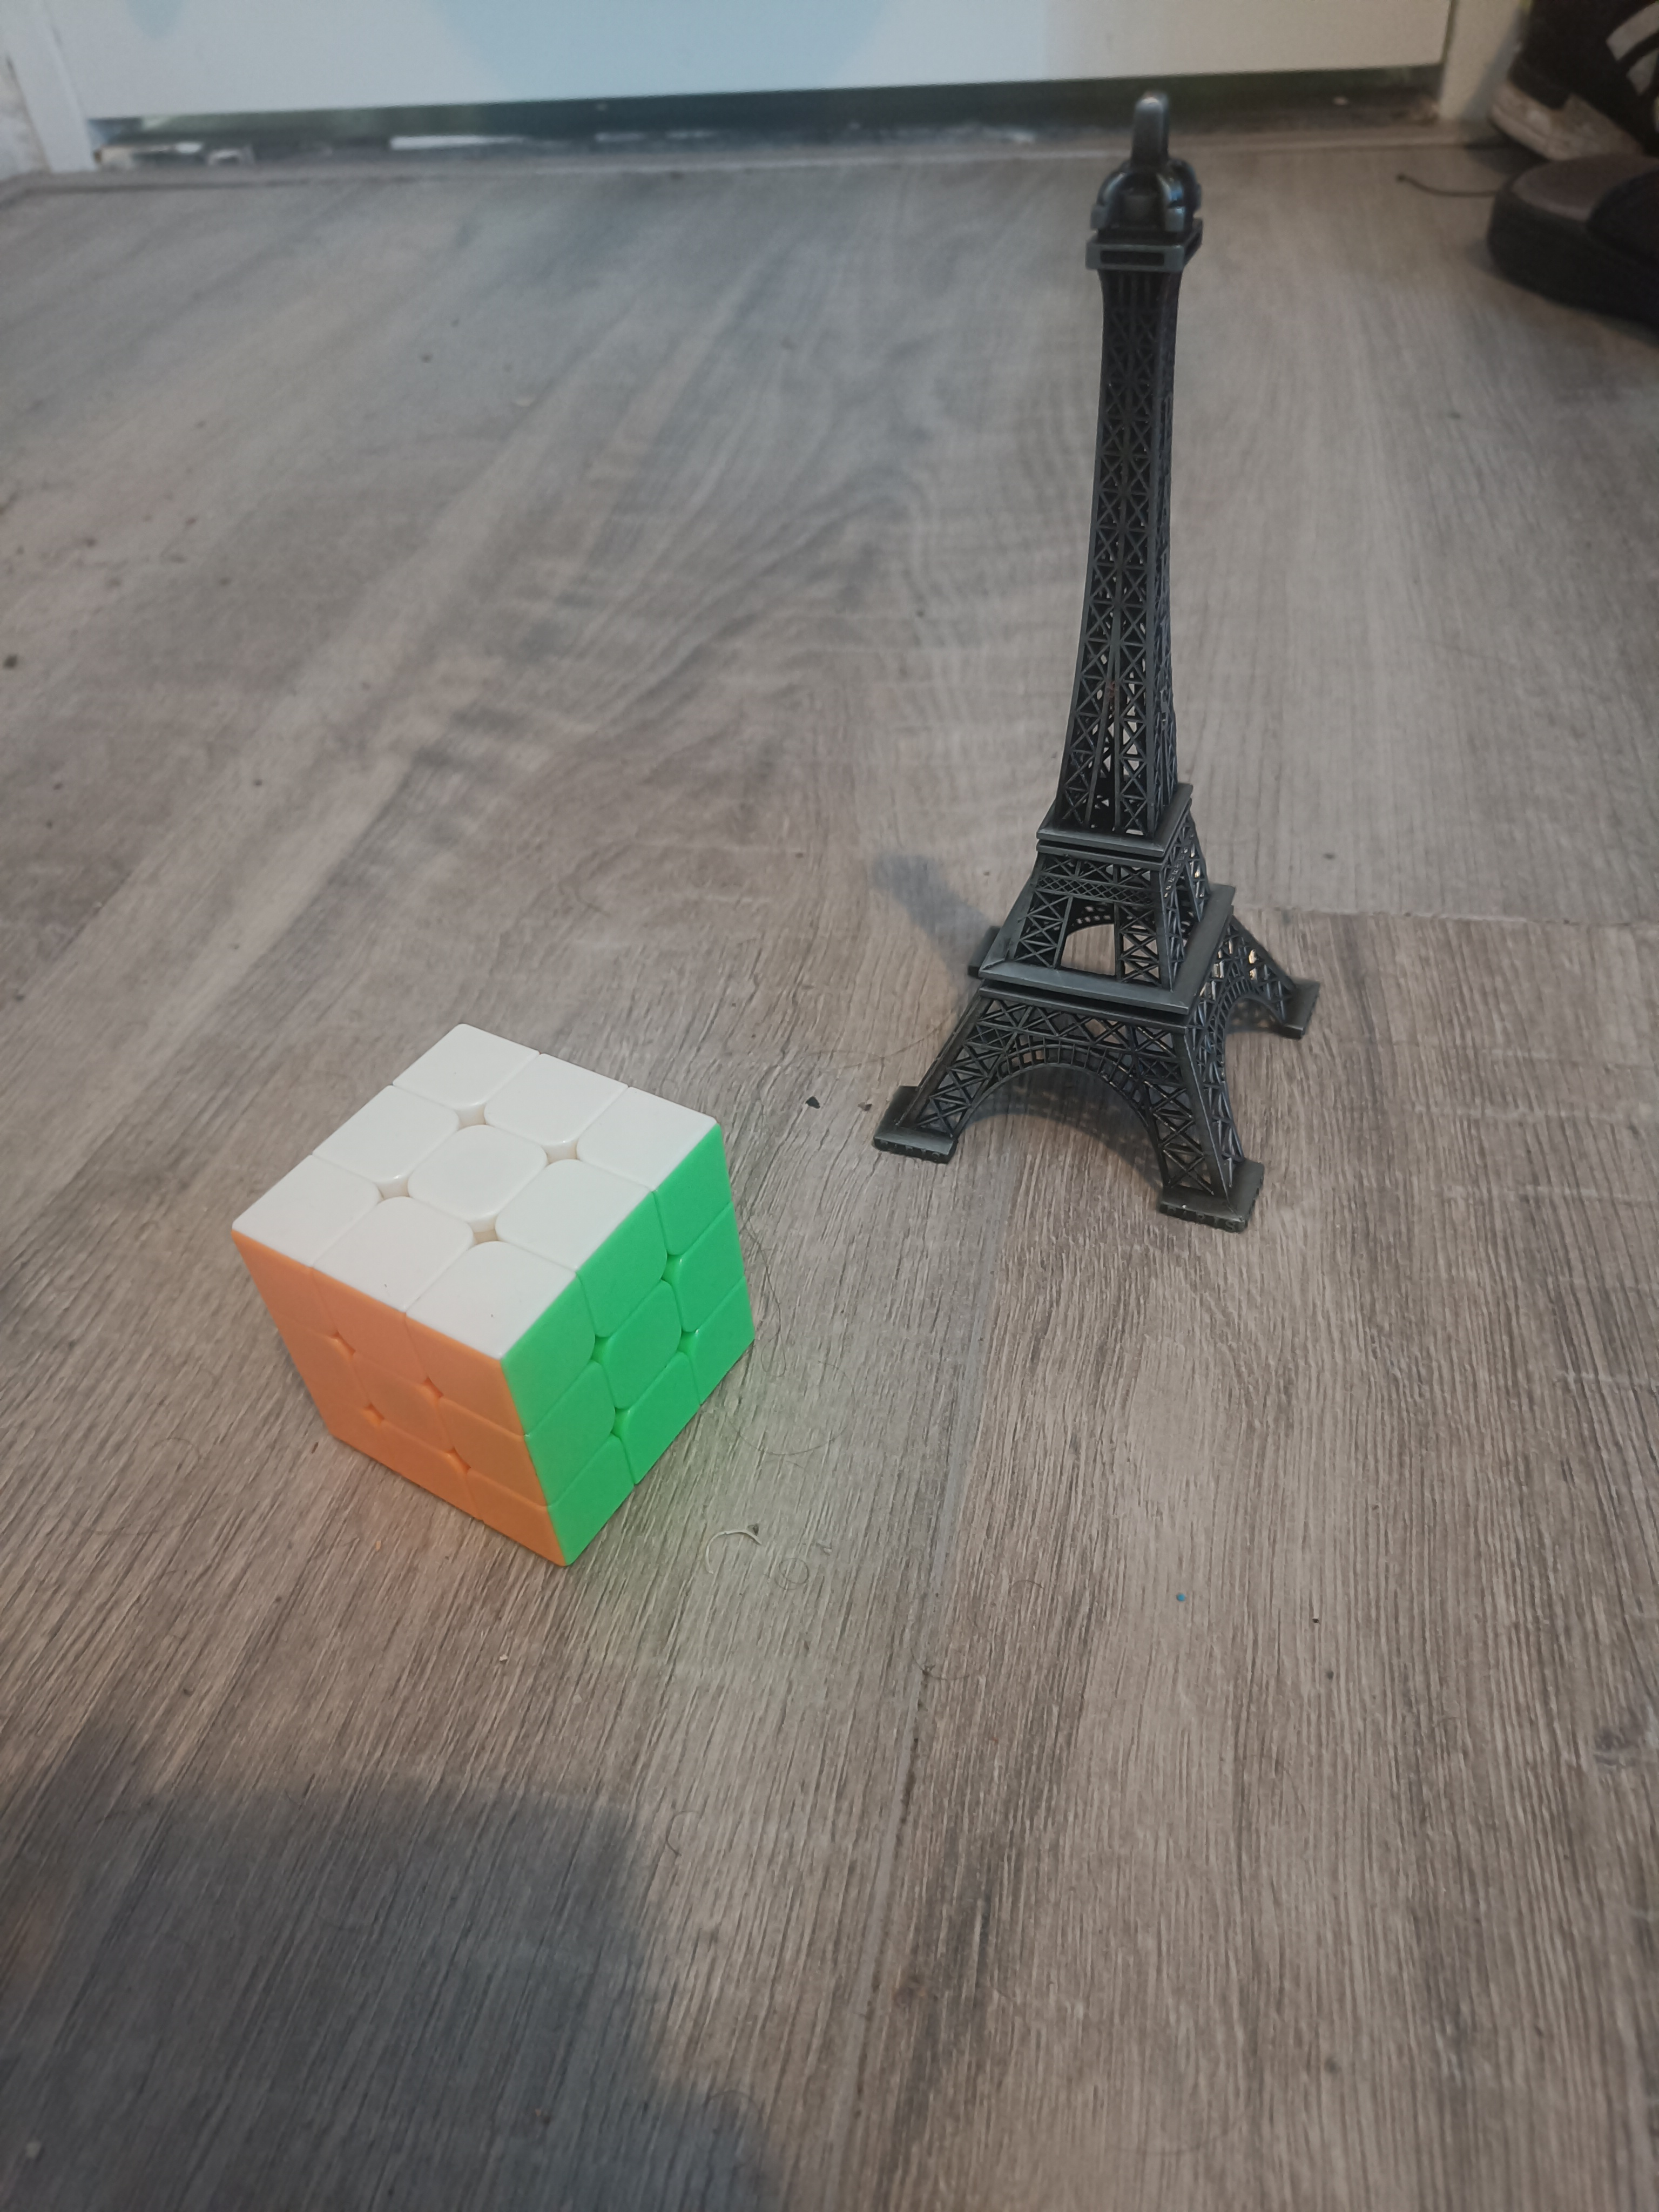Eiffel Tower: (859, 94, 1354, 1233)
Rubiks Cube: (202, 989, 770, 1581)
